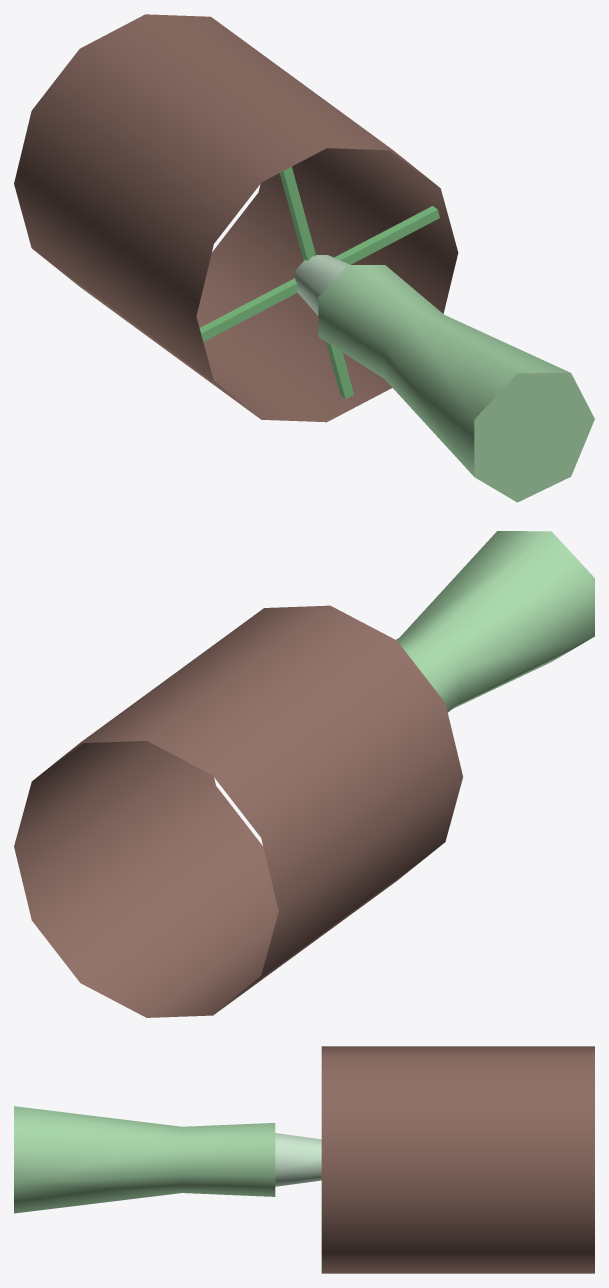
The model's file is desk-lamp.glb.
3 views of the same model, one above another, from view 1: azimuth 30°, elevation 25°; view 2: azimuth 150°, elevation 25°; view 3: azimuth 270°, elevation 25° (orthographic). The views are drawn at different scales.
Parts seen in each view (by area): view 1: lamp_table_005; view 2: lamp_table_005; view 3: lamp_table_005.
Boxes of the visible parts, x1,y1,x2,y2 form: lamp_table_005: (14, 14, 594, 502); lamp_table_005: (14, 531, 594, 1017); lamp_table_005: (14, 1046, 594, 1273).
Size of the model in its own units: 0.2515 by 0.2515 by 0.6405.
Materials: 1 (1 with a texture image).
